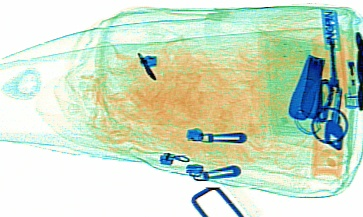lighter: (336, 31, 361, 108)
